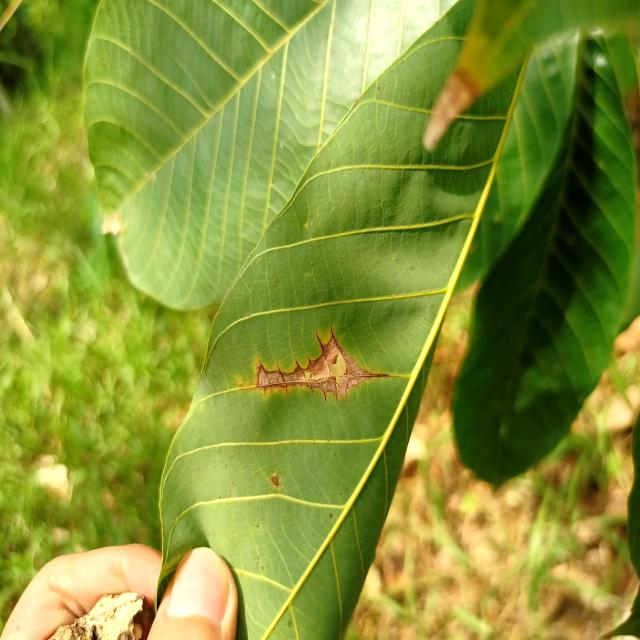Corynespora: (256, 324, 393, 404)
